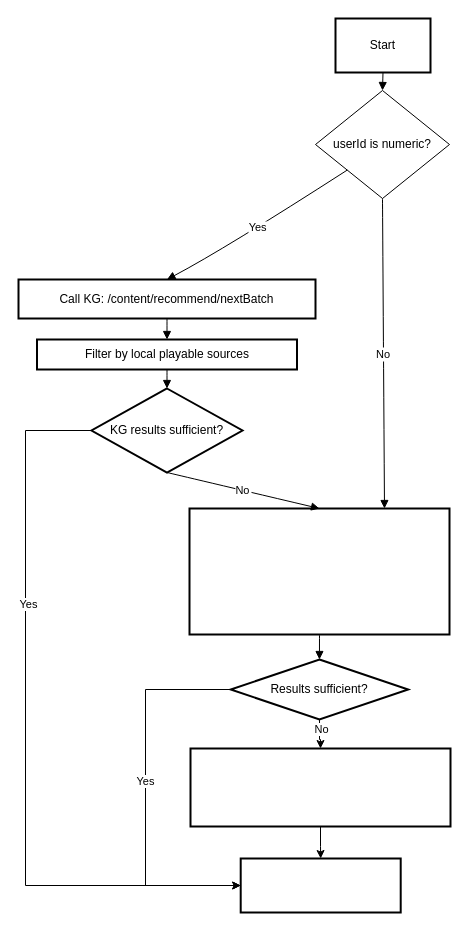
This 468x930 diagram has some shape labels left out. Here are the shapes that lost their labels. From the top down, the centre of each, then its label:
At (x=319, y=571): "ES Query-1: originCountryCode=local, language, coverShape, releaseTime".
At (x=320, y=787): "ES Query-2: language, coverShape, releaseTime".
At (x=320, y=885): "Return results".
